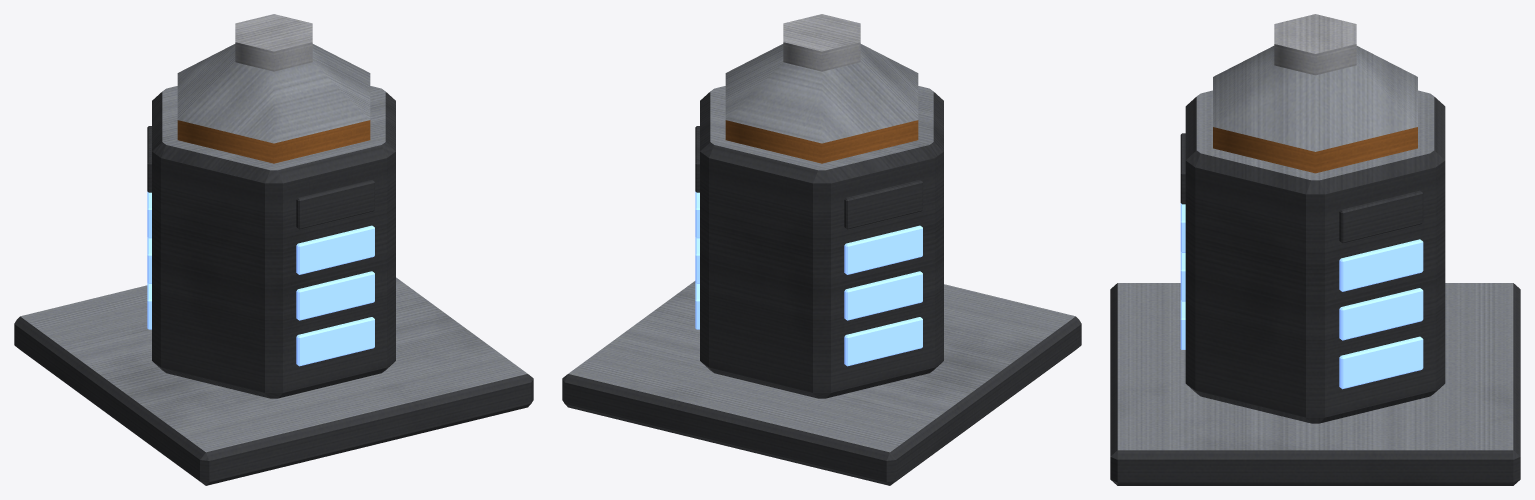
File: R4X_ChargeCapacity_LOD1.glb
3 views of the same model, side by side, from view 1: azimuth 30°, elevation 25°; view 2: azimuth 150°, elevation 25°; view 3: azimuth 270°, elevation 25° (orthographic). The views are drawn at different scales.
Parts seen in each view (by area): view 1: R4X_ChargeCapacity_LOD1; view 2: R4X_ChargeCapacity_LOD1; view 3: R4X_ChargeCapacity_LOD1.
Part boxes in pixels (x1,y1,x2,y2): R4X_ChargeCapacity_LOD1: [14, 14, 533, 485]; R4X_ChargeCapacity_LOD1: [562, 14, 1081, 485]; R4X_ChargeCapacity_LOD1: [1110, 14, 1520, 485].
Size of the model in its own units: 0.52 by 0.515 by 0.52.
Materials: 5 (4 with a texture image).
